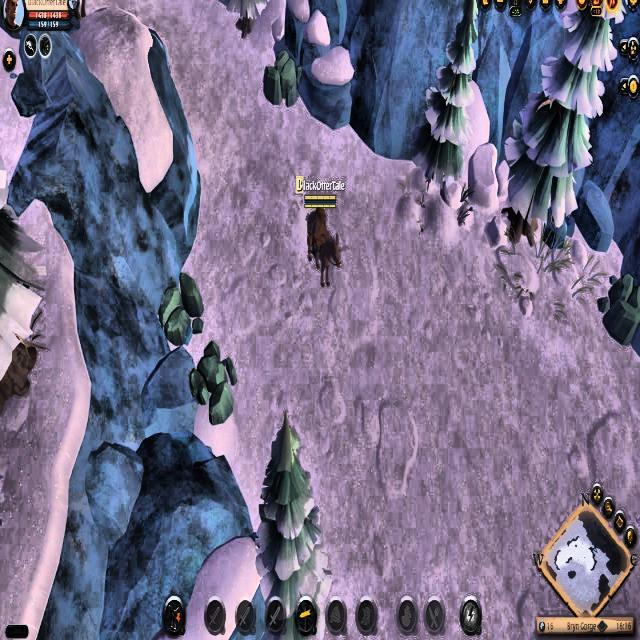sandstone: (192, 336, 237, 428), (155, 268, 204, 344), (596, 272, 640, 350), (260, 44, 304, 110)
